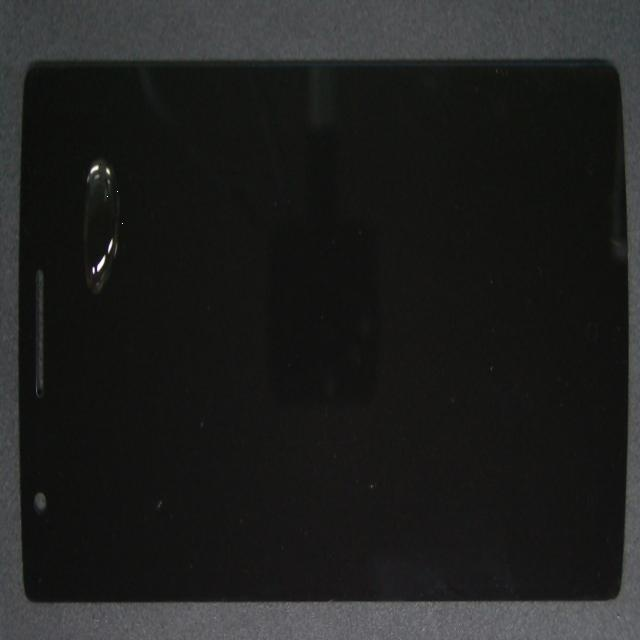oil: (35, 84, 125, 370)
